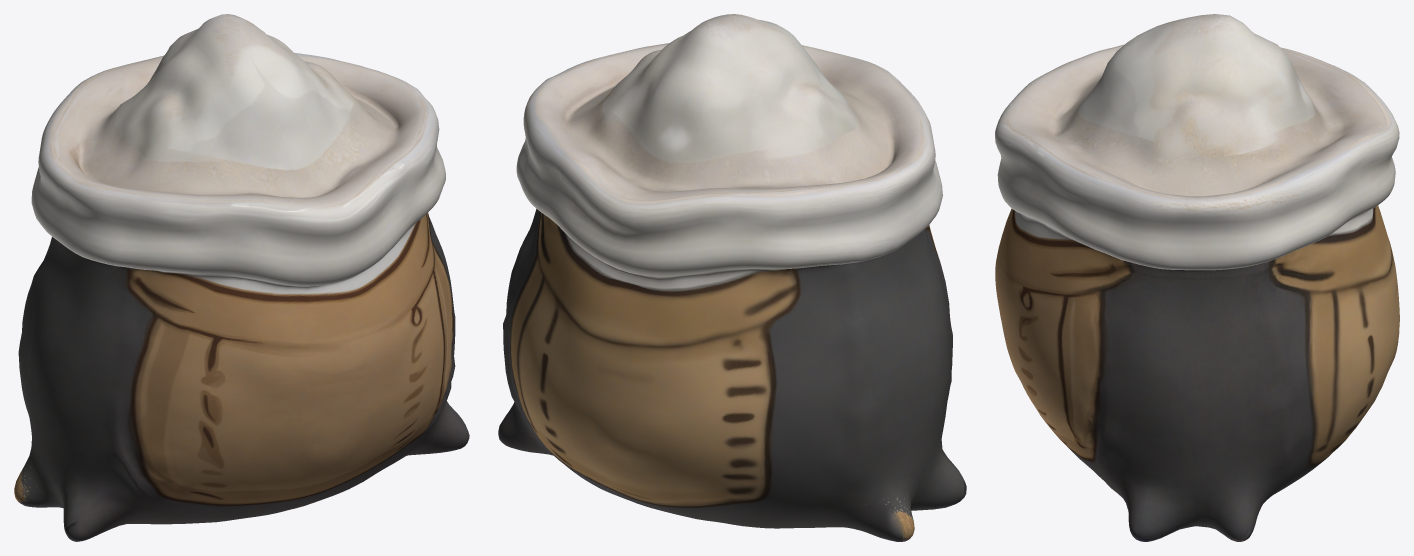
File: Flour_Sack_1028072322_texture.fbx
3 renders of one model, left to right at view 1: azimuth 30°, elevation 25°; view 2: azimuth 150°, elevation 25°; view 3: azimuth 270°, elevation 25°, orthographic. The views are drawn at different scales.
Visible parts, largest first — view 1: input; view 2: input; view 3: input.
Part boxes in pixels (box(x1,y1,x2,y2)): input: box(14, 14, 469, 541); input: box(498, 14, 966, 541); input: box(995, 14, 1399, 541).
Size of the model in its own units: 173 by 191 by 156.
1 material, 1 textured.
